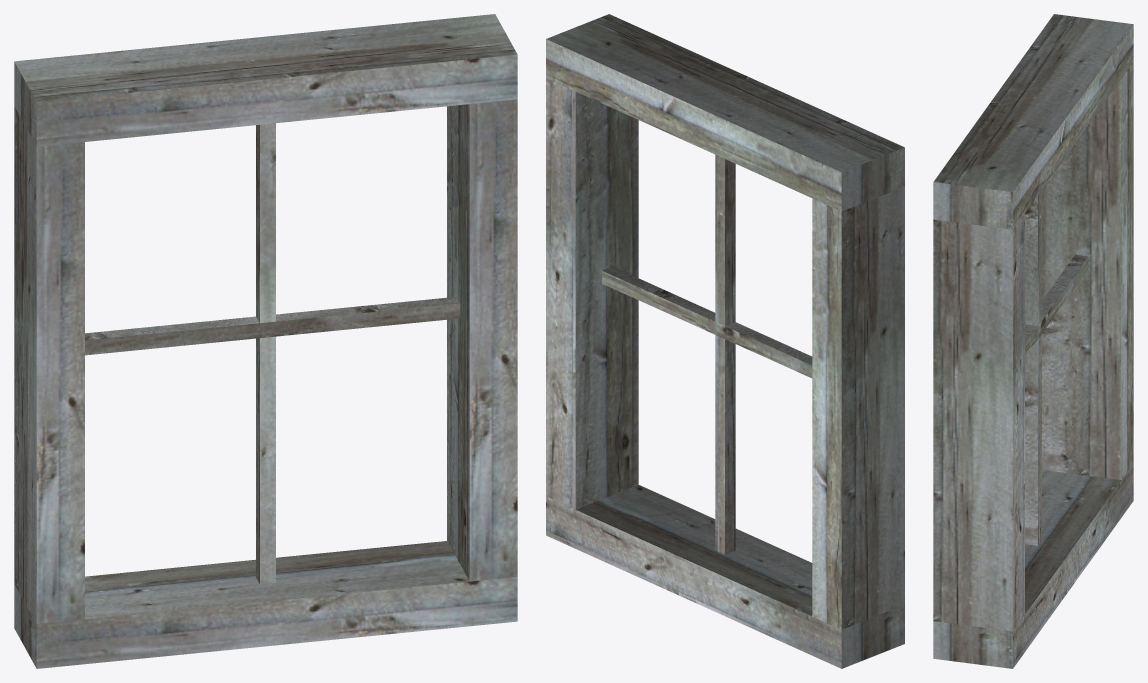
File: window3.fbx
The picture shows the model from 3 angles, left to right: view 1: azimuth 30°, elevation 25°; view 2: azimuth 150°, elevation 25°; view 3: azimuth 270°, elevation 25°; orthographic projection. The views are drawn at different scales.
Visible parts, largest first — view 1: window3; view 2: window3; view 3: window3.
Part boxes in pixels (x1,y1,x2,y2): window3: [14, 14, 517, 668]; window3: [546, 14, 904, 668]; window3: [933, 14, 1133, 668].
Size of the model in its own units: 12180 by 15200 by 5780.
